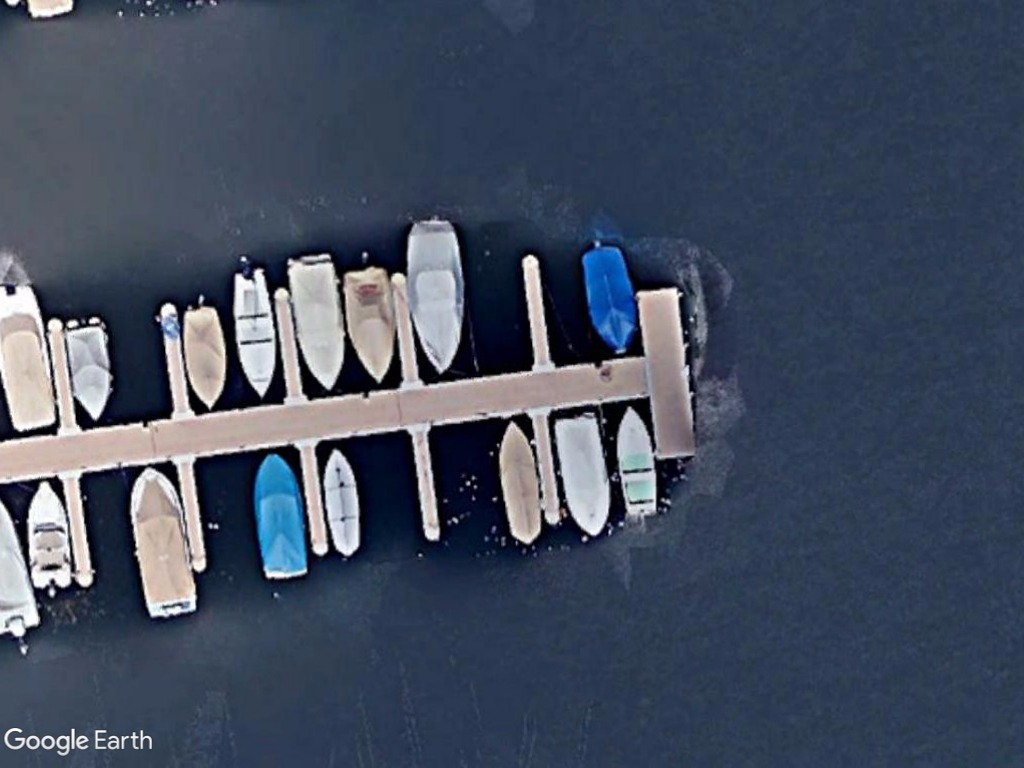boat: (118, 463, 204, 623), (401, 214, 469, 377), (283, 250, 347, 394), (248, 446, 311, 584), (547, 411, 616, 536), (224, 264, 278, 401), (577, 241, 640, 353), (18, 474, 75, 596), (490, 419, 543, 547), (340, 266, 397, 384), (613, 400, 662, 527), (177, 297, 231, 411), (65, 316, 115, 429), (320, 446, 366, 562)
